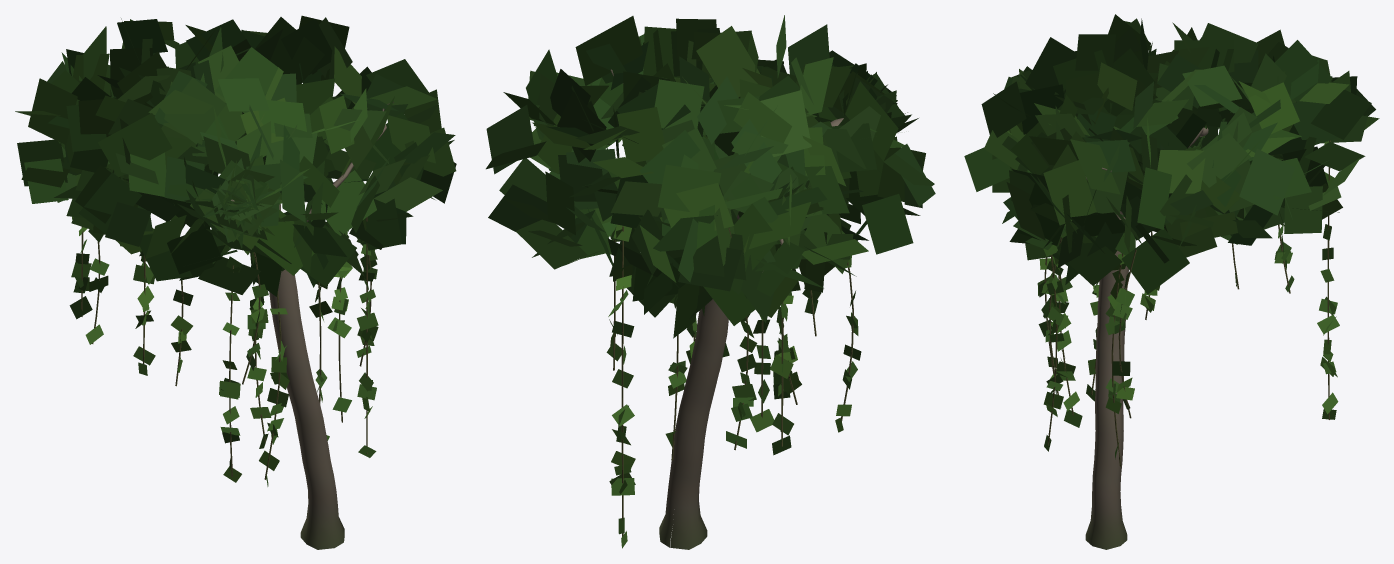
Rendered from broadleaf.jungle.green.glb.
The picture shows the model from 3 angles, left to right: view 1: azimuth 30°, elevation 25°; view 2: azimuth 150°, elevation 25°; view 3: azimuth 270°, elevation 25°; orthographic projection. The views are drawn at different scales.
Visible parts, largest first — view 1: broadleaf_jungle_green; view 2: broadleaf_jungle_green; view 3: broadleaf_jungle_green.
Boxes of the visible parts, x1,y1,x2,y2 form: broadleaf_jungle_green: [15, 15, 456, 549]; broadleaf_jungle_green: [486, 15, 935, 549]; broadleaf_jungle_green: [964, 14, 1379, 549].
Size of what is drawn, in the model's own units: 10.39 by 13.15 by 10.56.
